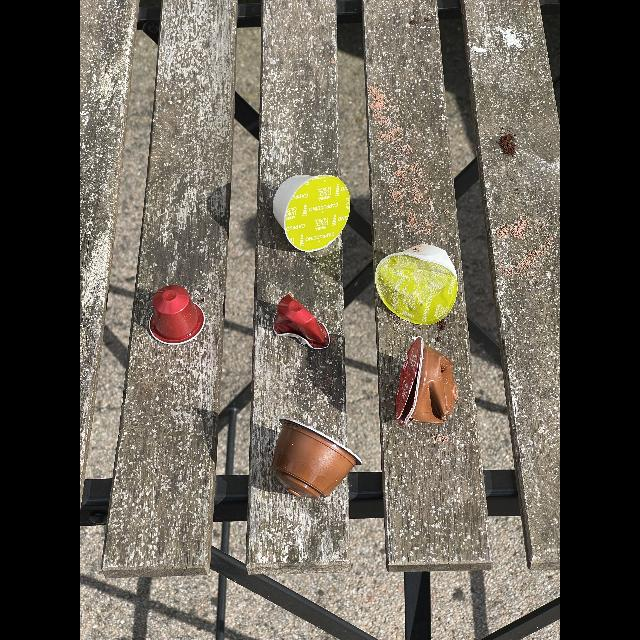damaged_capsule: (390, 330, 466, 430), (372, 242, 462, 324), (266, 289, 336, 367)
intact_capsule: (268, 416, 368, 506), (270, 167, 354, 257), (142, 282, 210, 348)
